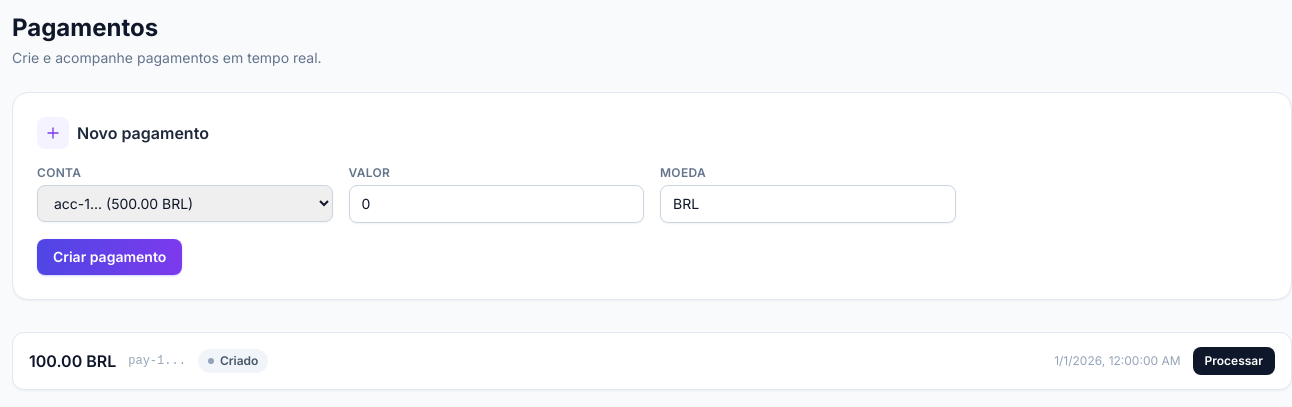
Test: PaymentsView › processes a CREATED payment and reflects its updated status
Click the submit button: (1234, 361) left=1192, top=347, right=1275, bottom=375
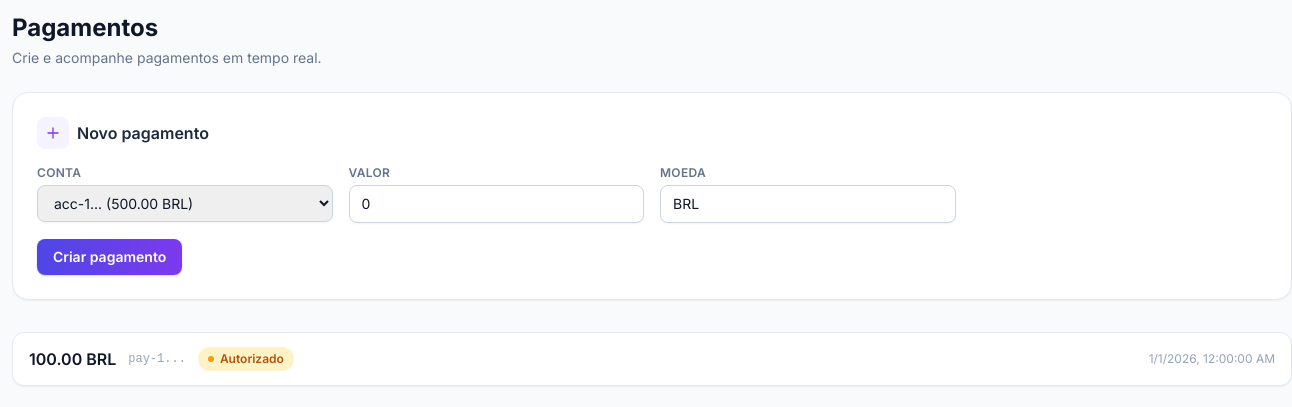
Check: the text "Autorizado" is shown, box left=198, top=347, right=294, bottom=371
